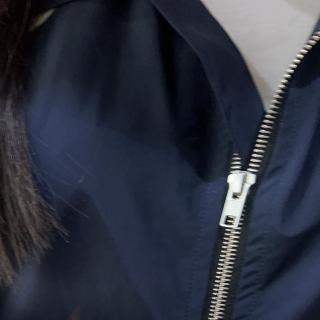fire: (55, 312, 79, 320)
